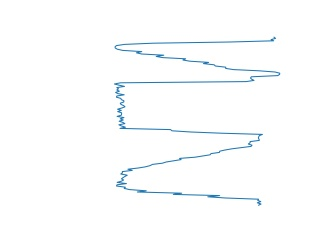distributaryChannelFill: (112, 71, 267, 142)
mouthBar: (111, 33, 286, 77)
underwaterDistributaryChannel: (113, 136, 265, 208)
